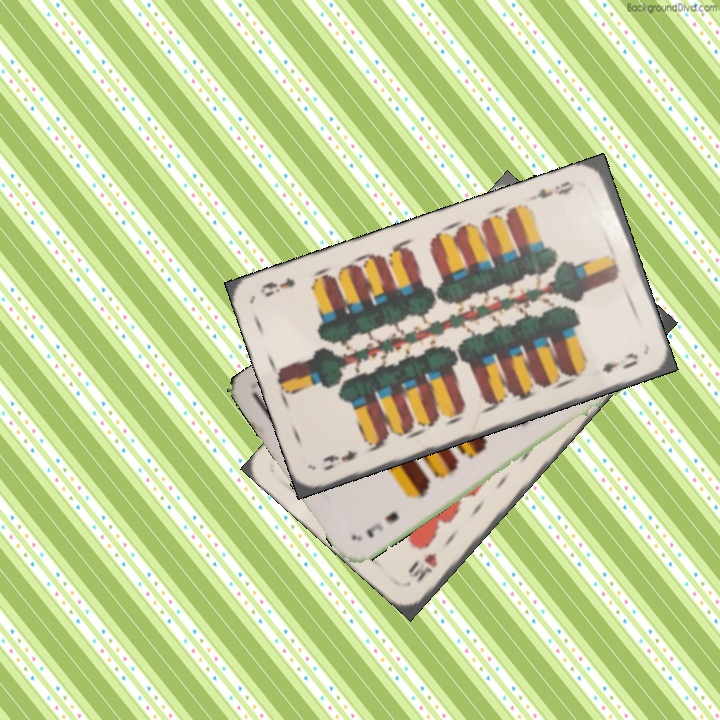E7: (362, 507, 402, 541)
E9: (528, 177, 577, 203), (318, 446, 361, 474)
H10: (405, 548, 441, 584)
